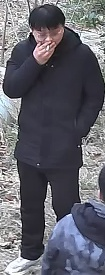smoking: (3, 2, 104, 100)
